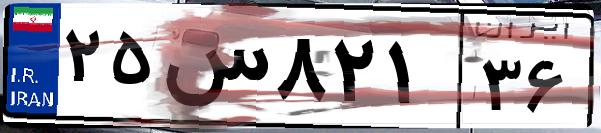1: (385, 28, 445, 110)
2: (330, 28, 385, 110), (57, 26, 110, 100)
3: (475, 38, 525, 113)
5: (110, 28, 158, 98)
6: (525, 38, 570, 115)
8: (270, 28, 330, 110)
س: (158, 20, 270, 120)
